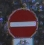No entry: (6, 6, 39, 40)
